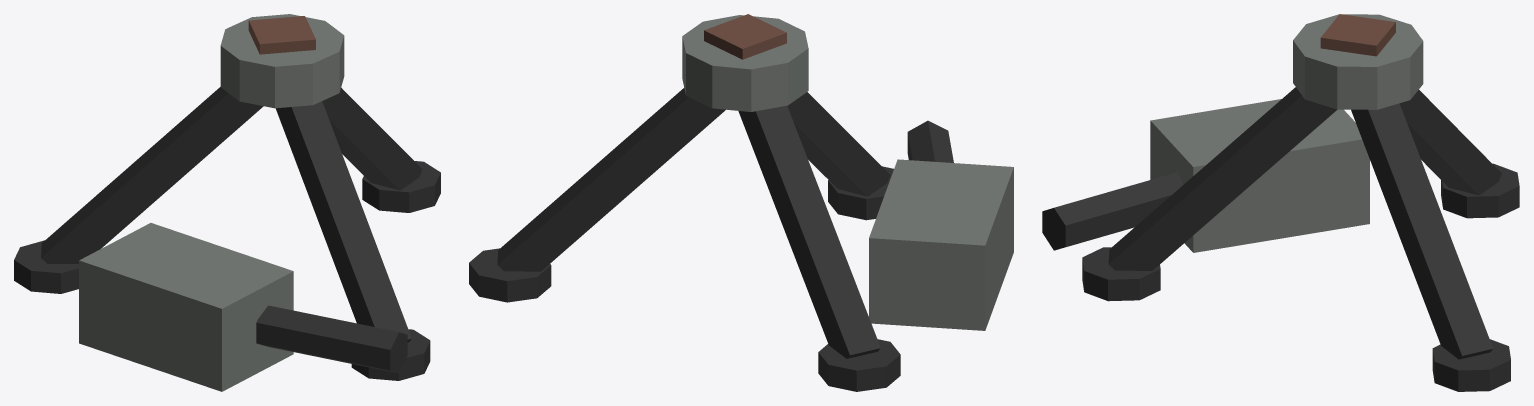
The model's file is ancient_security_turret_2.obj.
The picture shows the model from 3 angles, left to right: view 1: azimuth 30°, elevation 25°; view 2: azimuth 150°, elevation 25°; view 3: azimuth 270°, elevation 25°; orthographic projection. The views are drawn at different scales.
Visible parts, largest first — view 1: ancient_security_turret_2; view 2: ancient_security_turret_2; view 3: ancient_security_turret_2.
Boxes of the visible parts, x1,y1,x2,y2 form: ancient_security_turret_2: [14, 14, 440, 391]; ancient_security_turret_2: [469, 14, 1013, 391]; ancient_security_turret_2: [1042, 14, 1519, 391].
Size of the model in its own units: 0.8575 by 0.48 by 0.8057.
